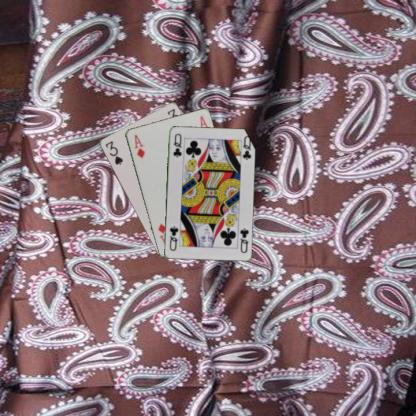3s: (102, 138, 124, 166)
Ad: (132, 132, 146, 159)
Qc: (237, 225, 249, 254), (170, 131, 182, 158)
